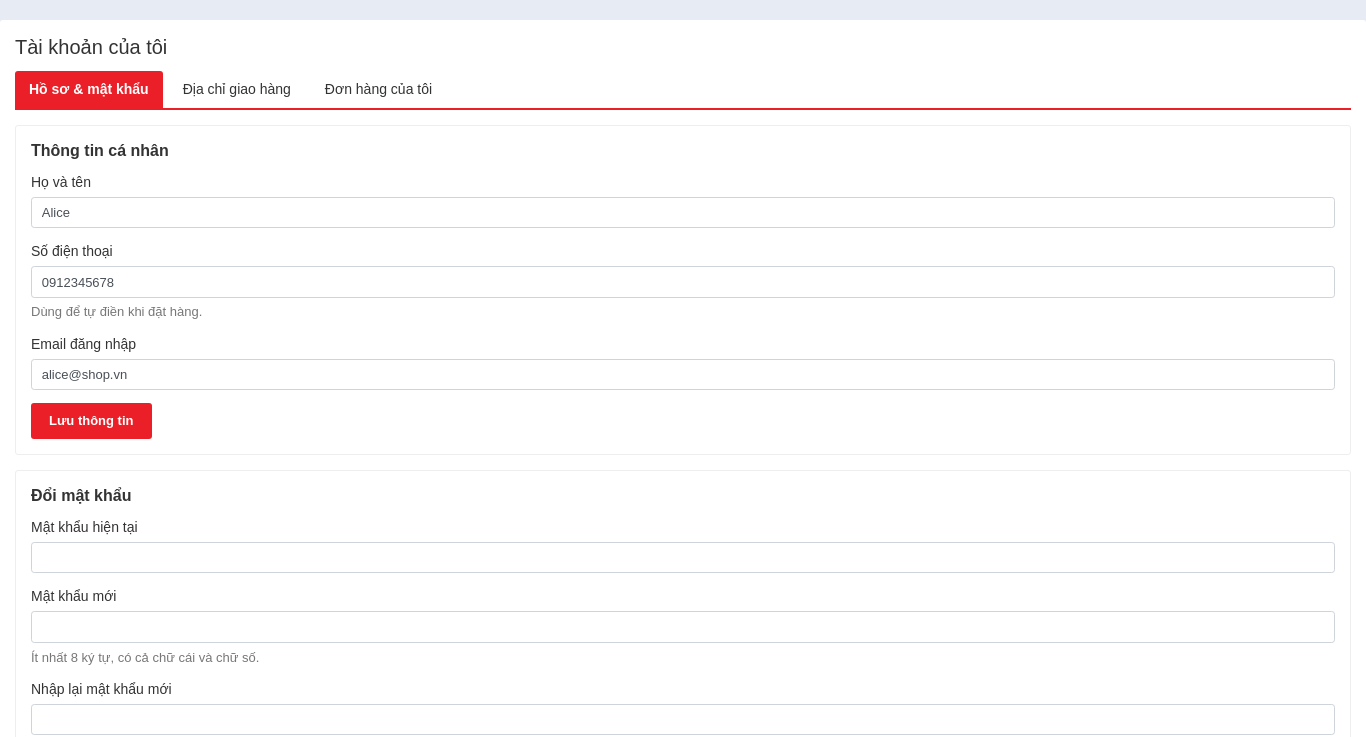
Scenario: hồ sơ: lưu thành công cập nhật tên trên phiên; lỗi backend được hiển thị; đổi email phải nhập mật khẩu
Replace the text in the field labelled "Họ và tên" with "Alice Nguyễn" at (683, 213), box top-left (31, 197), bottom-right (1335, 228)
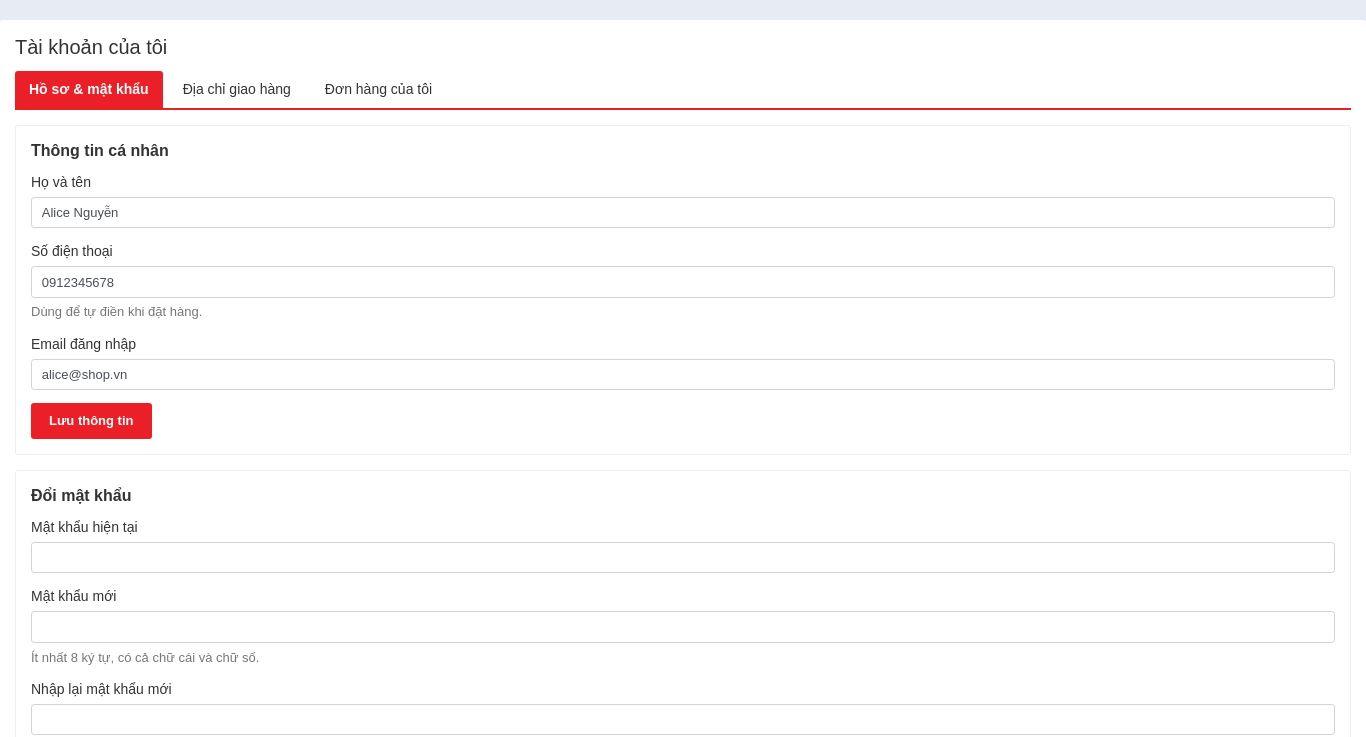
Click the button "Lưu thông tin" at (91, 421), box top-left (31, 403), bottom-right (152, 439)
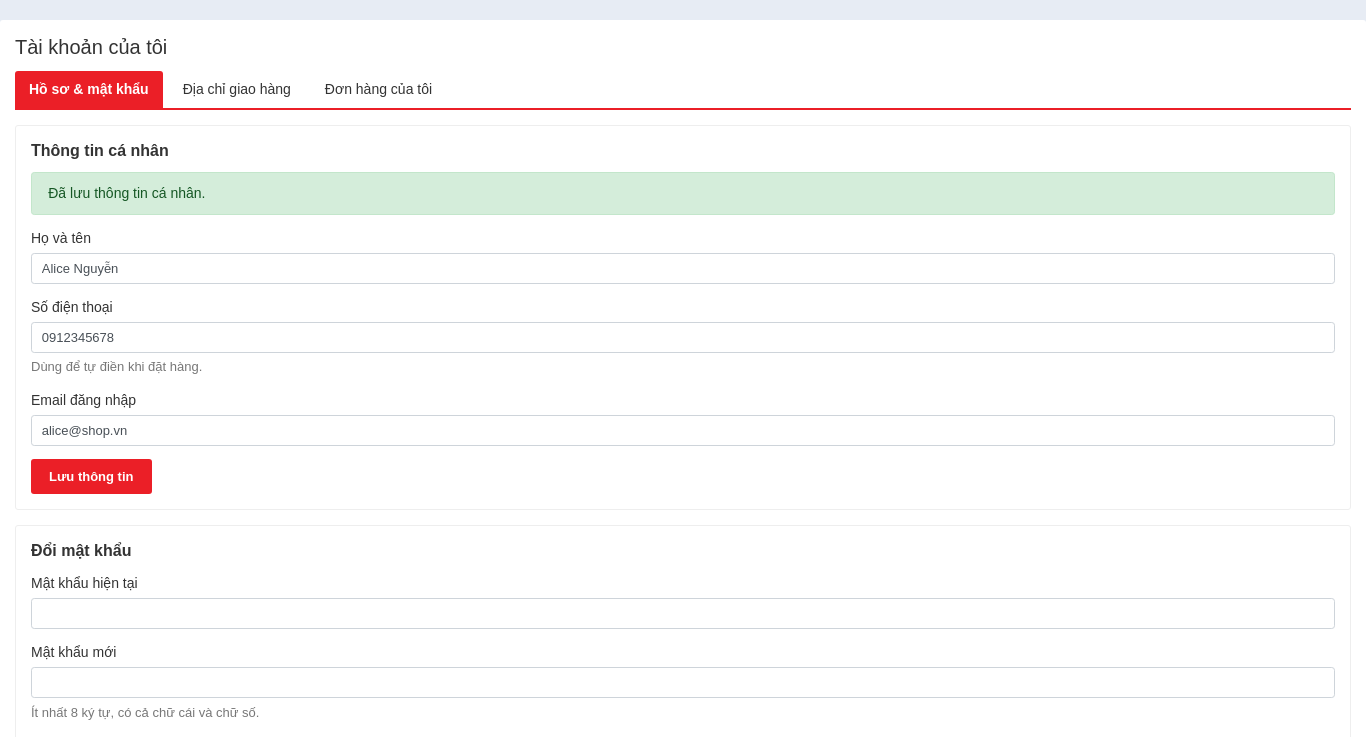
expect the message reads "Đã lưu thông tin cá nhân.": met, box top-left (48, 185), bottom-right (206, 201)
Replace the text in the field labelled "Email đăng nhập" with "bob@shop.vn" at (683, 430), box top-left (31, 415), bottom-right (1335, 446)
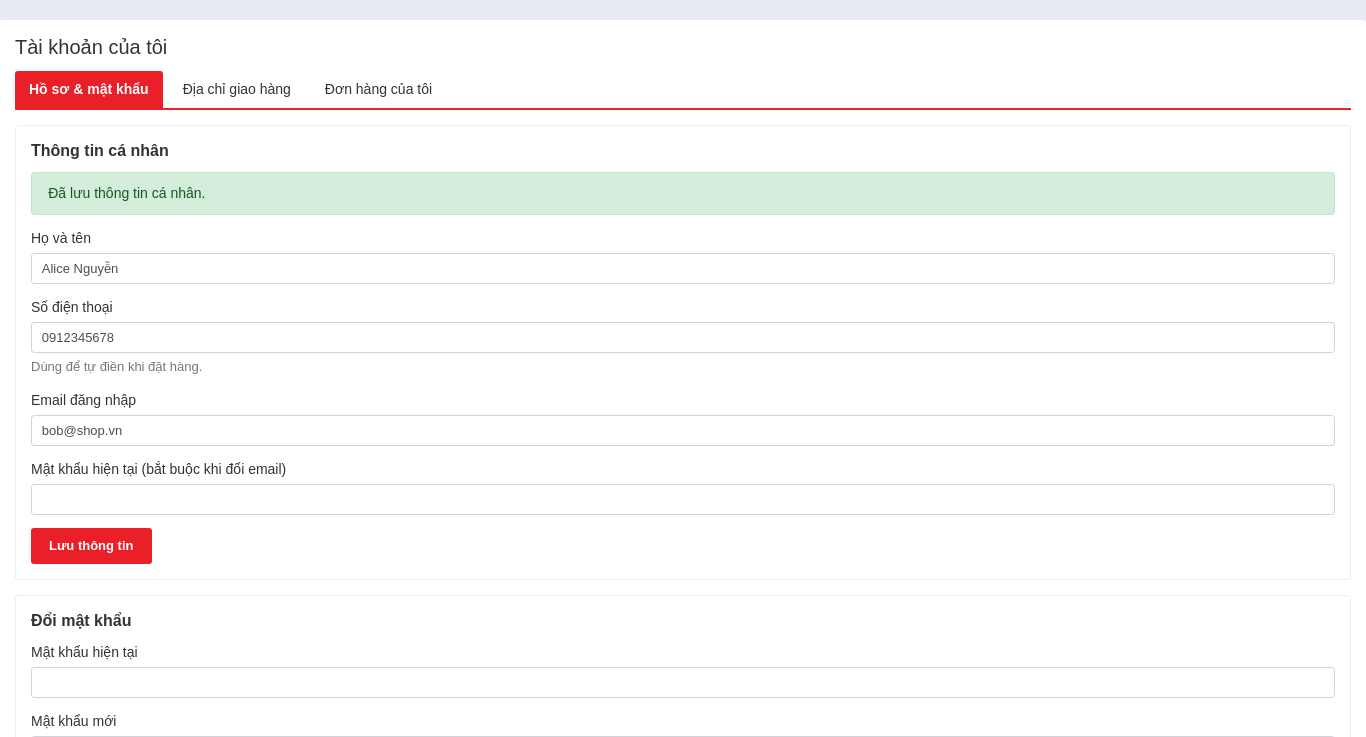
Click the button "Lưu thông tin" at (91, 546), box top-left (31, 528), bottom-right (152, 564)
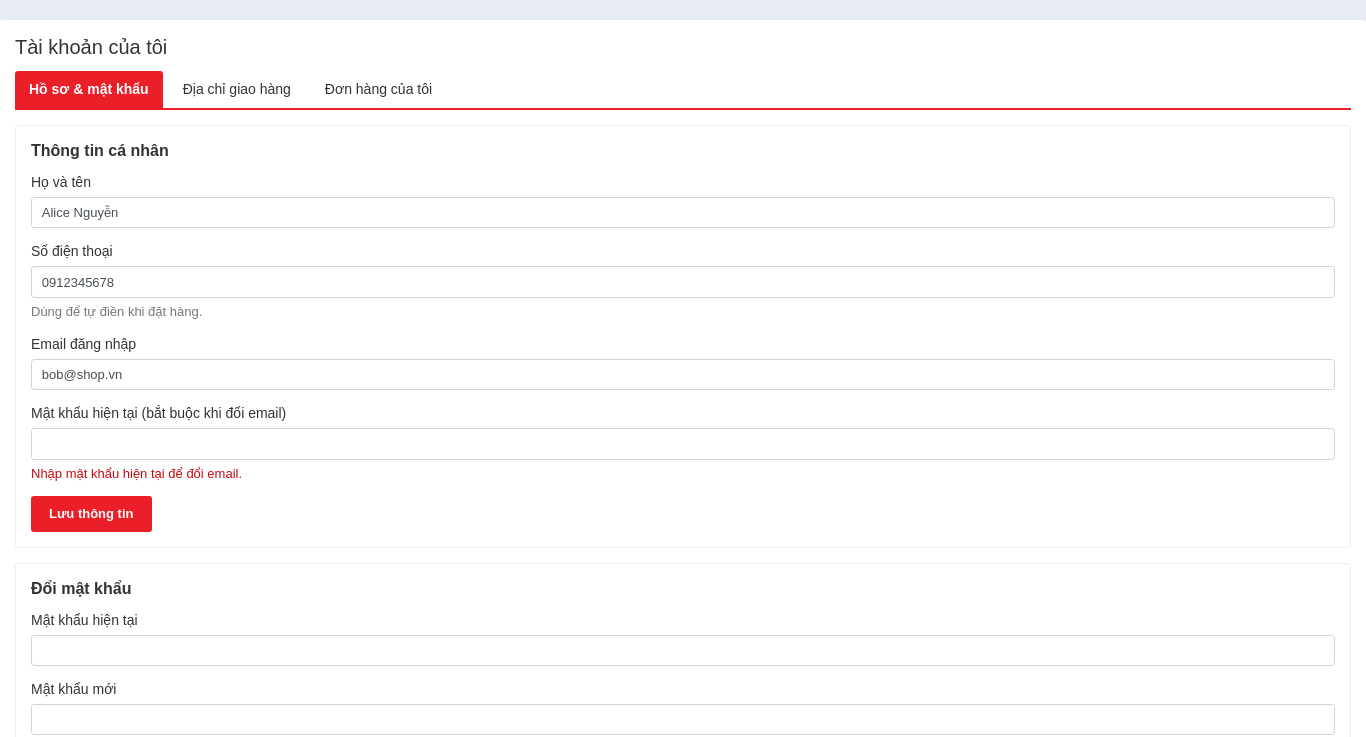
expect the text "Nhập mật khẩu hiện tại để đổi email." is shown: met, box top-left (31, 466), bottom-right (242, 481)
Type "alice-matkhau-1" into the password field labelled "Mật khẩu hiện tại (bắt buộc khi đổi email)" at (683, 444), box top-left (31, 428), bottom-right (1335, 460)
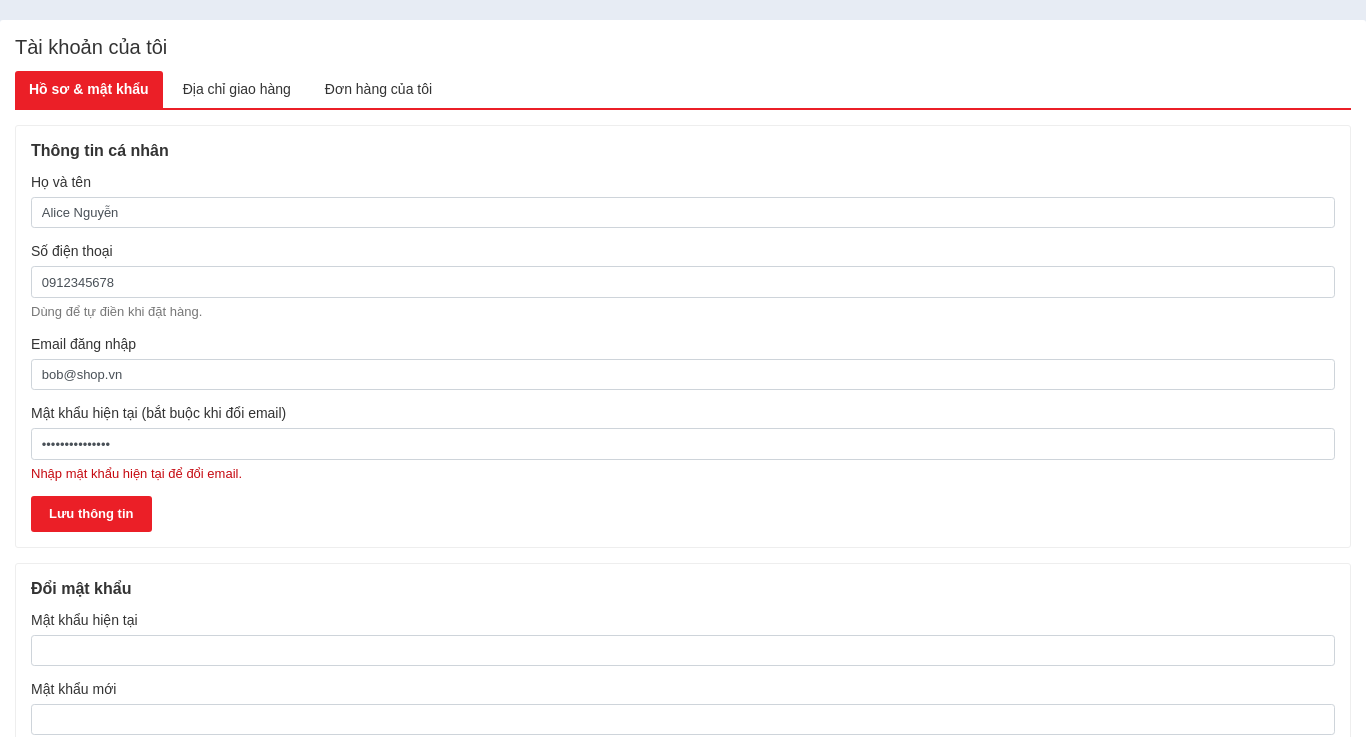
Click the button "Lưu thông tin" at (91, 514), box top-left (31, 496), bottom-right (152, 532)
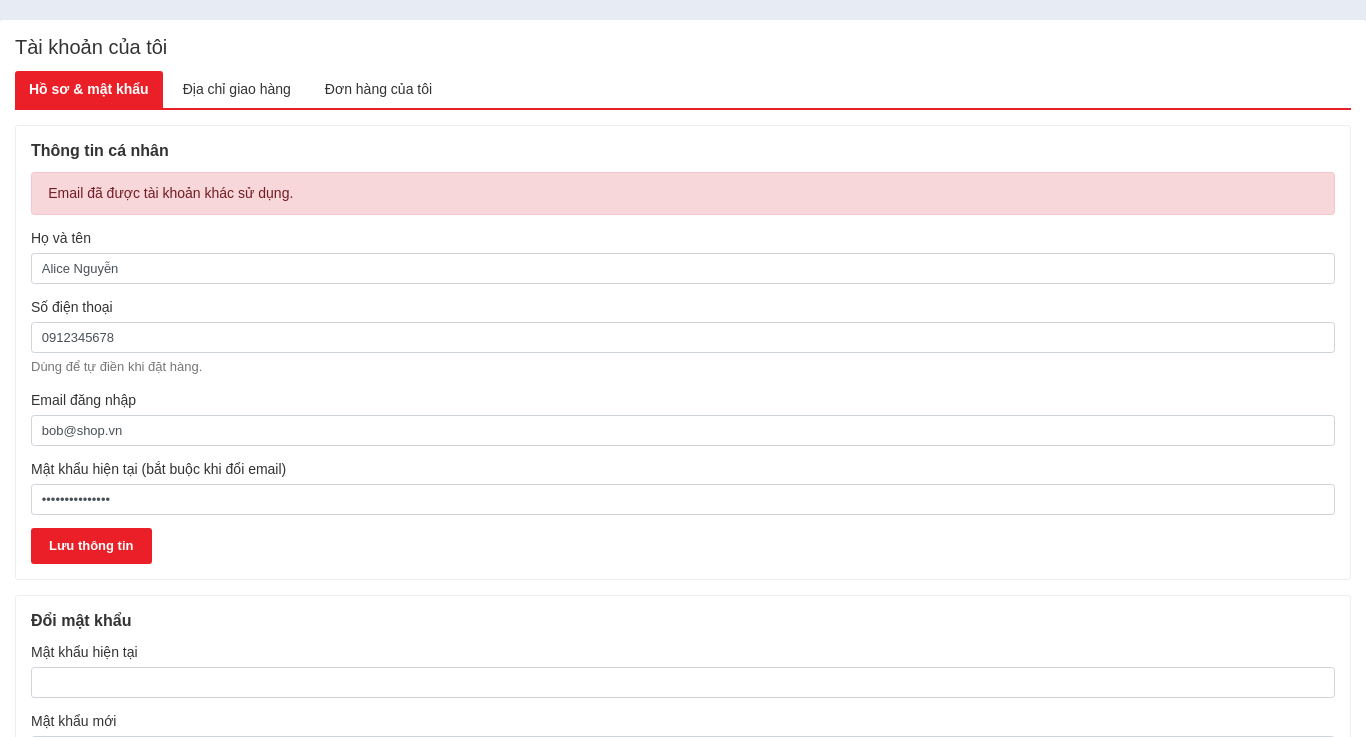
expect the message reads "Email đã được tài khoản khác sử dụng.": met, box top-left (48, 185), bottom-right (293, 201)
